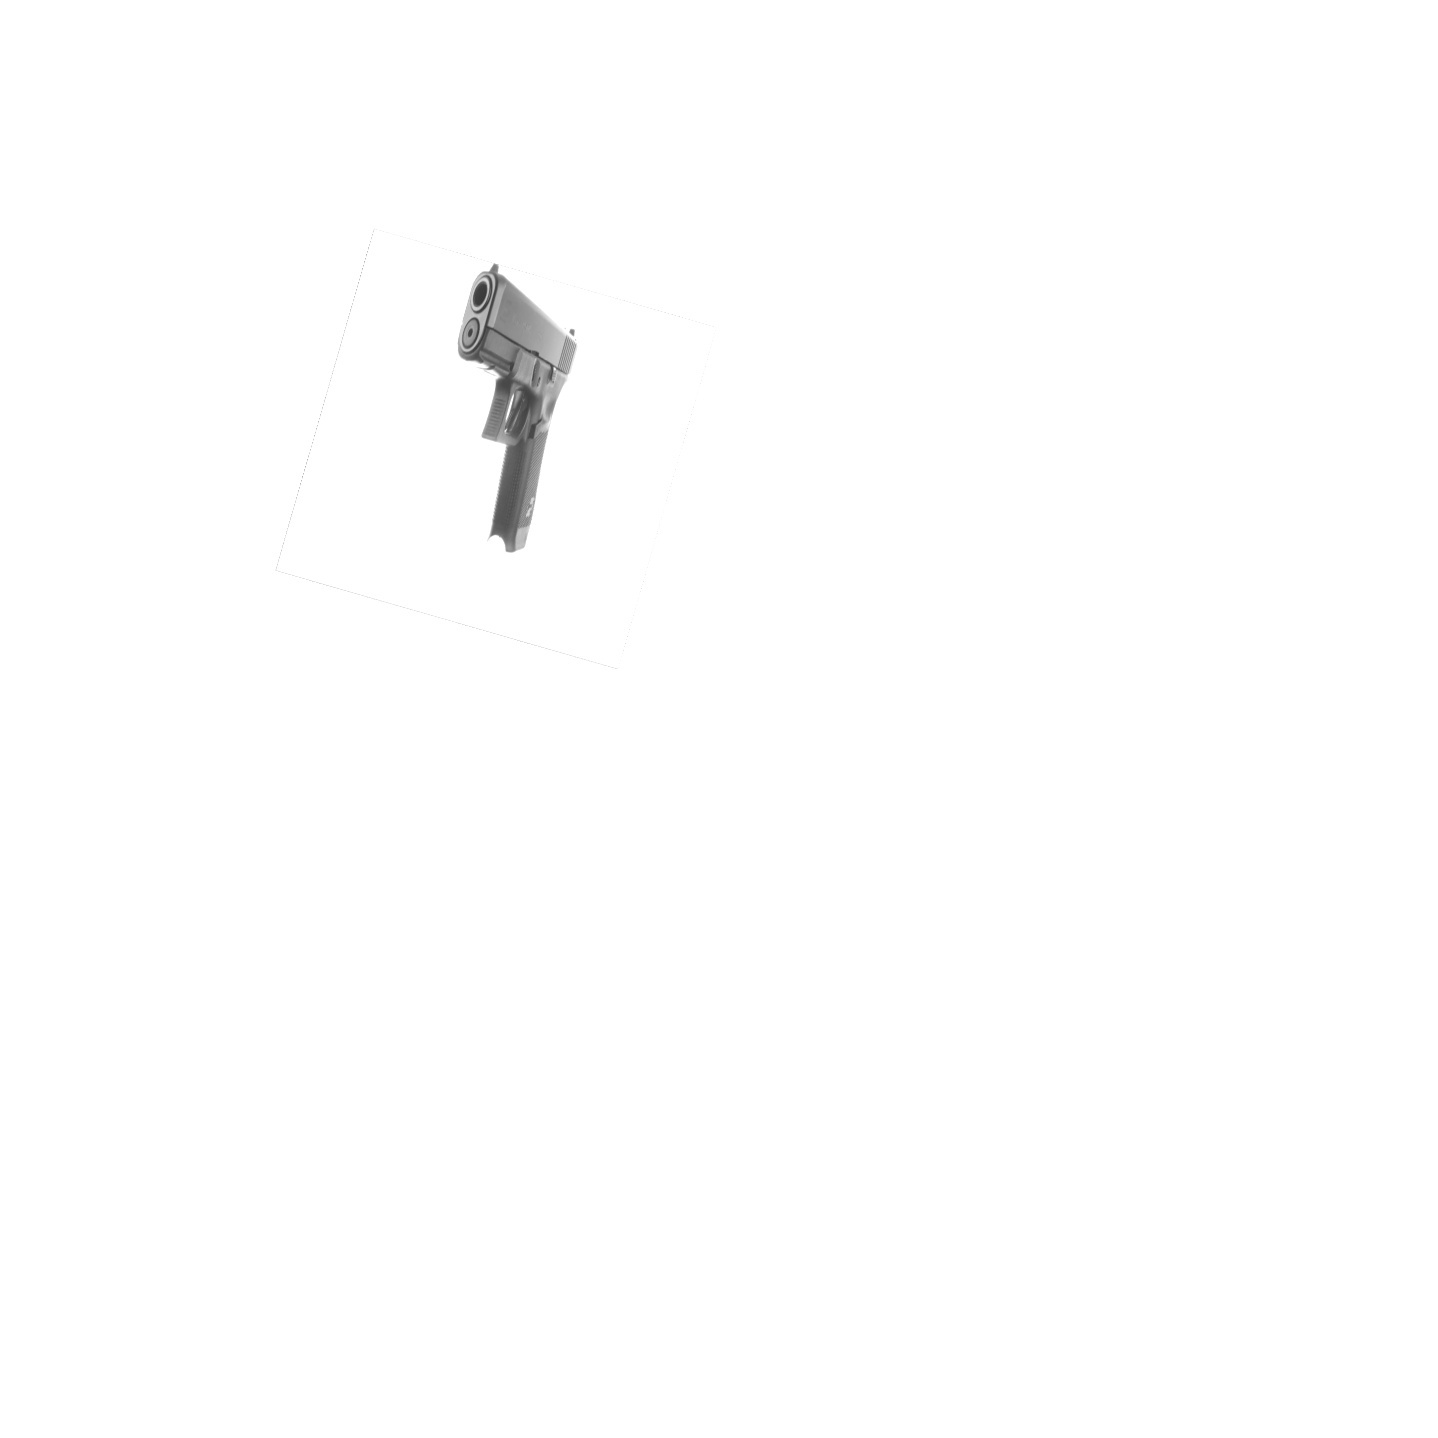gun: (449, 257, 585, 557)
